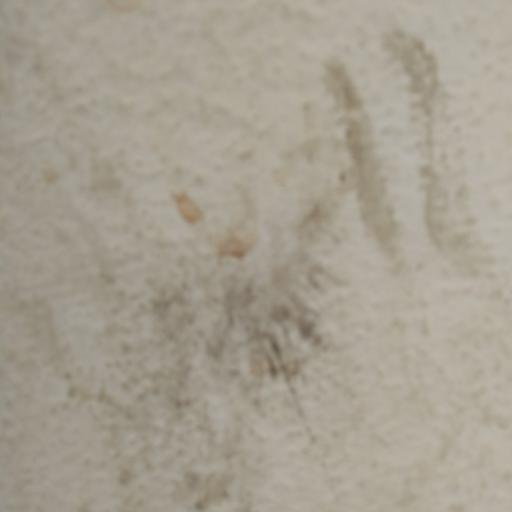stain: (95, 44, 467, 469)
